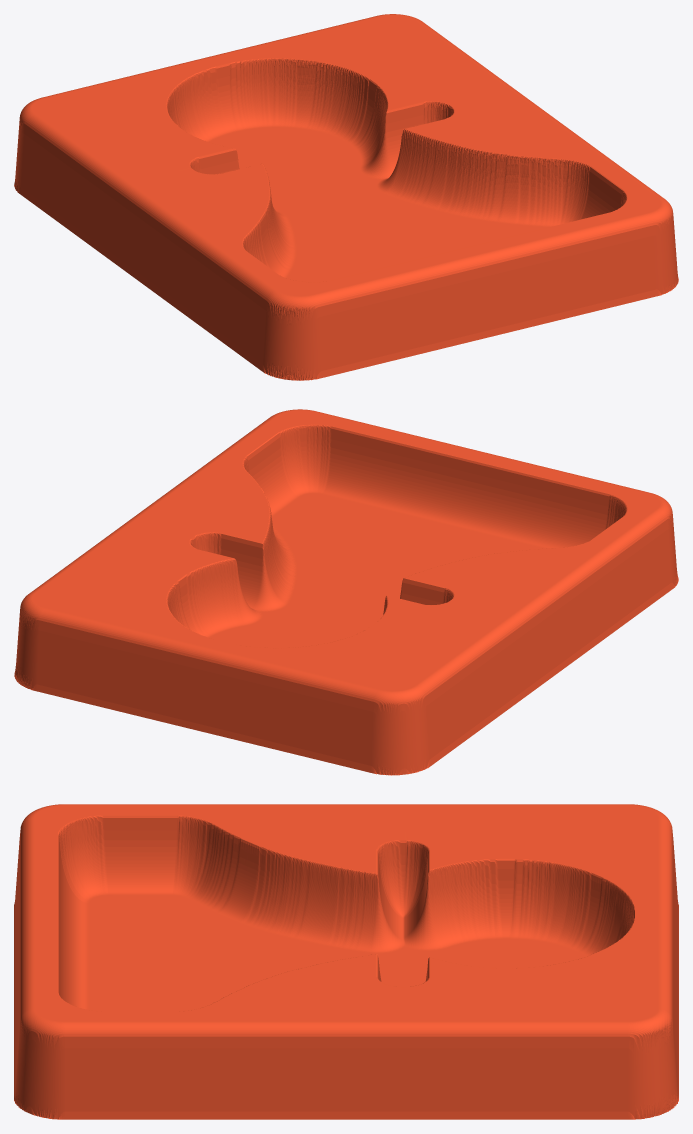
File: mold.glb
3 renders of one model, top to bottom at view 1: azimuth 30°, elevation 25°; view 2: azimuth 150°, elevation 25°; view 3: azimuth 270°, elevation 25°, orthographic. The views are drawn at different scales.
Visible parts, largest first — view 1: geometry_0; view 2: geometry_0; view 3: geometry_0.
Boxes of the visible parts, bbox=[...] form: geometry_0: bbox=[14, 14, 678, 380]; geometry_0: bbox=[14, 409, 678, 775]; geometry_0: bbox=[14, 804, 678, 1119].
Size of the model in its own units: 0.0978 by 0.0175 by 0.1178.
